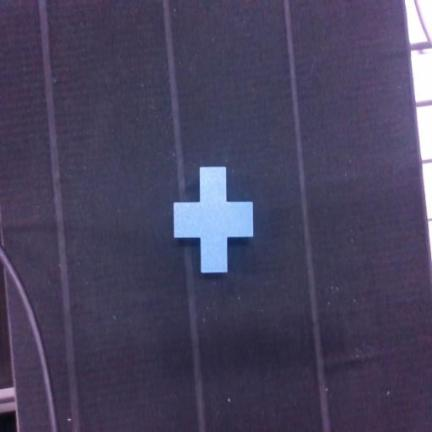cross: (174, 168, 253, 272)
